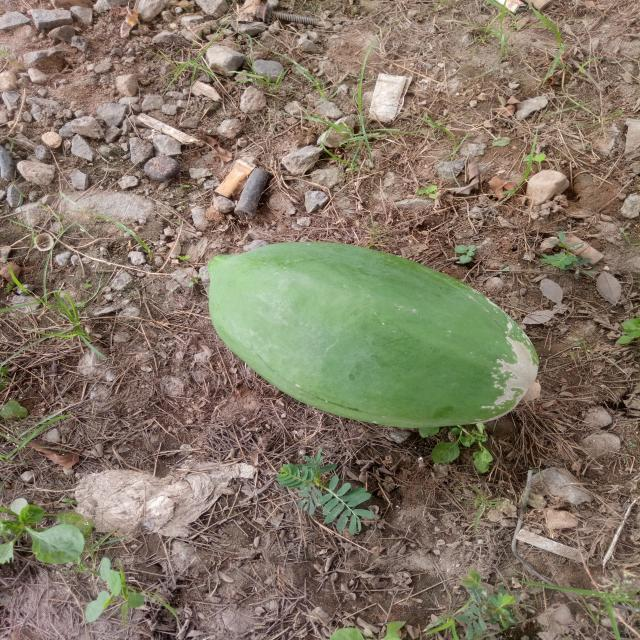Pepaya unrippen: (199, 234, 545, 433)
